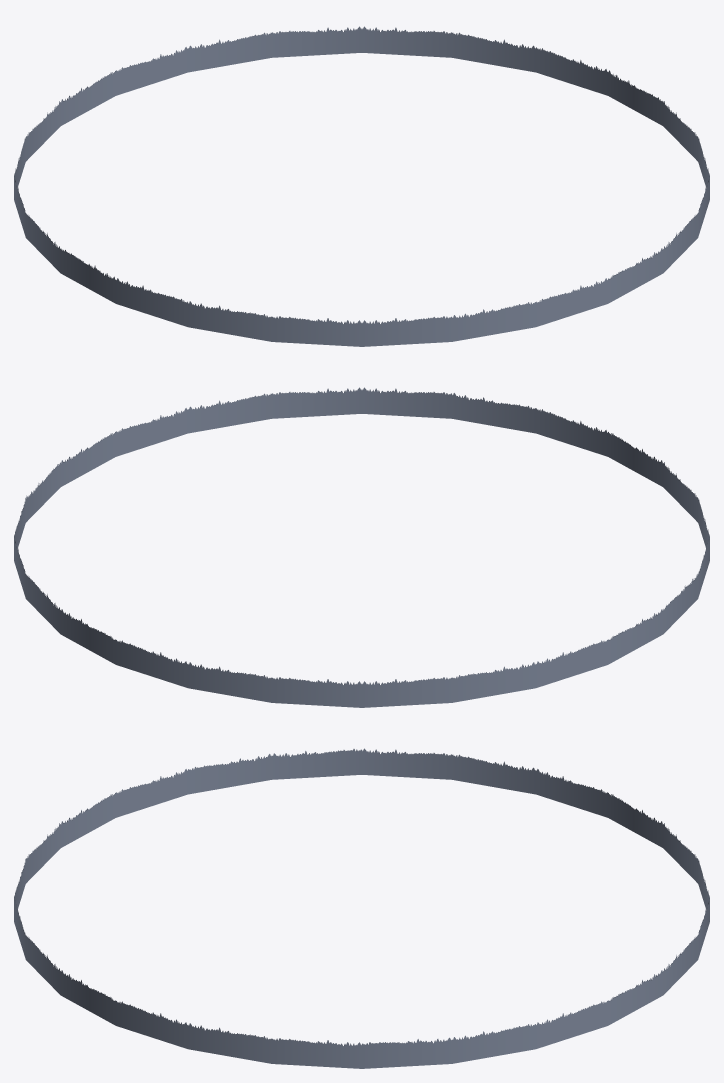
Rendered from Horizon_01.fbx.
The picture shows the model from 3 angles, top to bottom: view 1: azimuth 30°, elevation 25°; view 2: azimuth 150°, elevation 25°; view 3: azimuth 270°, elevation 25°; orthographic projection.
Visible parts, largest first — view 1: Horizon_01; view 2: Horizon_01; view 3: Horizon_01.
Boxes of the visible parts, left/top/right/bottom form: Horizon_01: left=14, top=26, right=709, bottom=346; Horizon_01: left=14, top=387, right=709, bottom=707; Horizon_01: left=14, top=748, right=709, bottom=1068.
Size of the model in its own units: 73.42 by 4.52 by 73.42.
